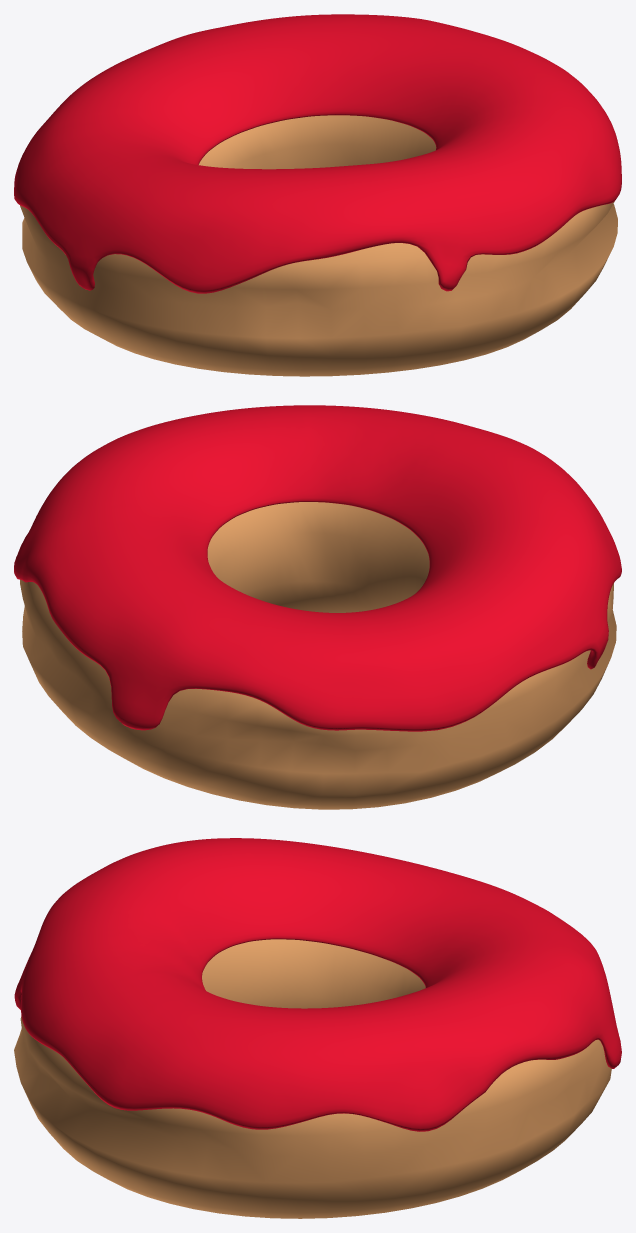
The model's file is PremiumDonut.glb.
3 views of the same model, one above another, from view 1: azimuth 30°, elevation 25°; view 2: azimuth 150°, elevation 25°; view 3: azimuth 270°, elevation 25° (orthographic). The views are drawn at different scales.
Parts seen in each view (by area): view 1: Icing, Donut; view 2: Icing, Donut; view 3: Icing, Donut.
Part boxes in pixels (left/top/right/bottom): Icing: left=14, top=14, right=621, bottom=293; Donut: left=20, top=115, right=617, bottom=376; Icing: left=14, top=405, right=621, bottom=731; Donut: left=20, top=502, right=616, bottom=809; Icing: left=14, top=838, right=621, bottom=1131; Donut: left=14, top=939, right=611, bottom=1218.
Size of the model in its own units: 0.1523 by 0.0592 by 0.1501.
